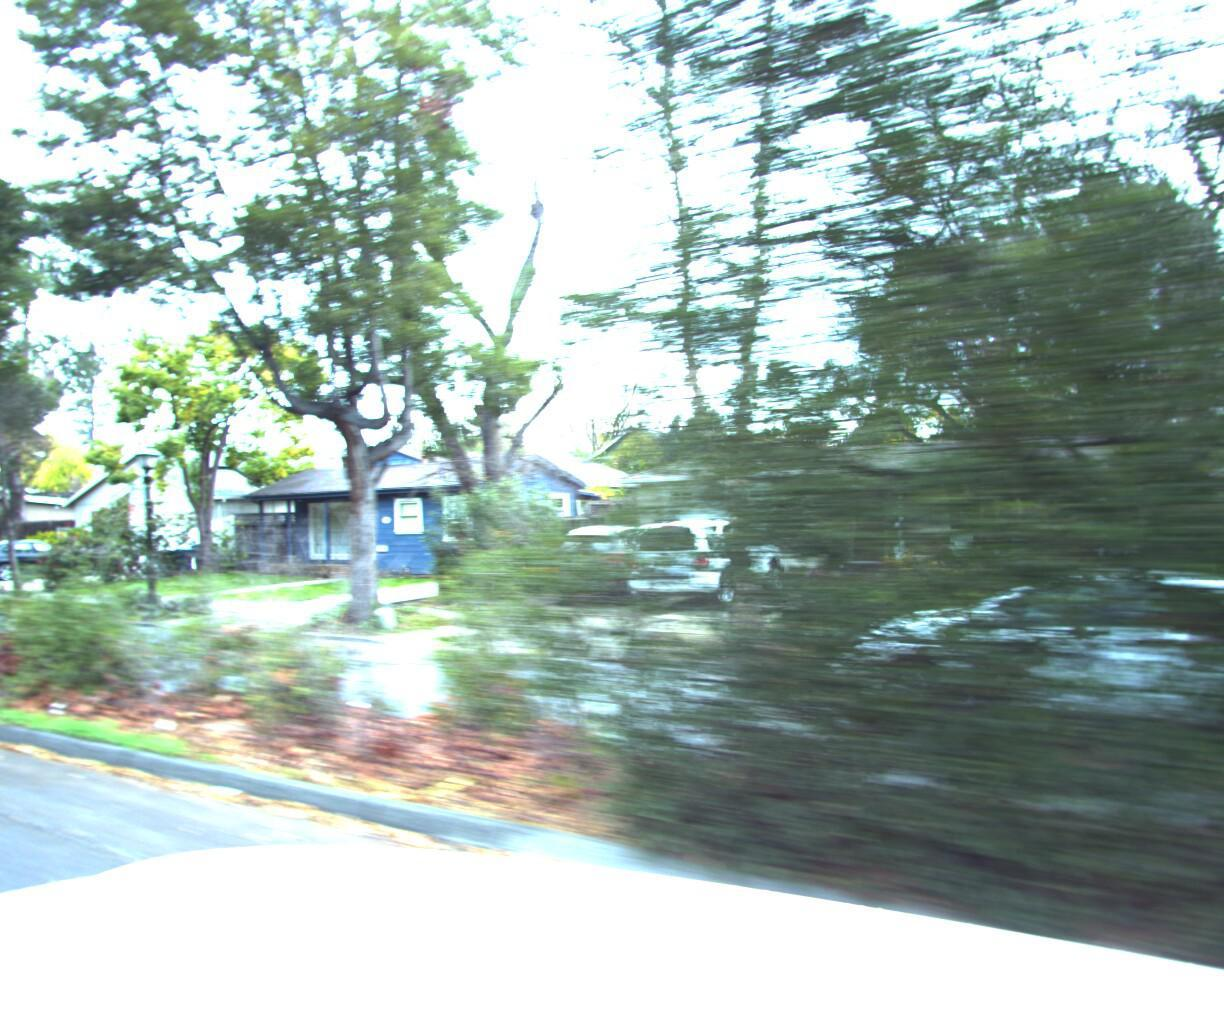car: (798, 559, 1224, 788), (609, 504, 784, 610), (0, 535, 99, 586)
